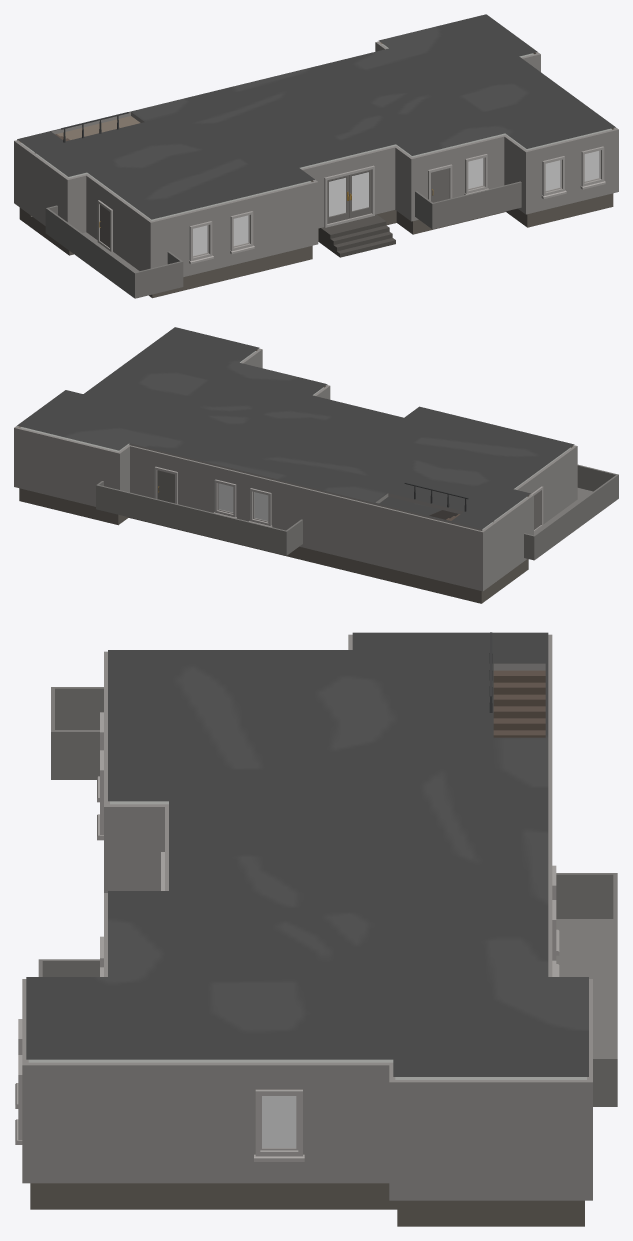
Rendered from SM_Bldg_City_Commercial_08_Base.fbx.
3 renders of one model, top to bottom at view 1: azimuth 30°, elevation 25°; view 2: azimuth 150°, elevation 25°; view 3: azimuth 270°, elevation 25°, orthographic. The views are drawn at different scales.
Parts seen in each view (by area): view 1: SM_Bldg_City_Commercial_08_Base, SM_Bldg_City_Commercial_08_Base_Glass; view 2: SM_Bldg_City_Commercial_08_Base, SM_Bldg_City_Commercial_08_Base_Glass; view 3: SM_Bldg_City_Commercial_08_Base, SM_Bldg_City_Commercial_08_Base_Glass.
Part boxes in pixels (x1,y1,x2,y2): SM_Bldg_City_Commercial_08_Base: [14, 14, 618, 298]; SM_Bldg_City_Commercial_08_Base_Glass: [193, 150, 599, 255]; SM_Bldg_City_Commercial_08_Base: [14, 327, 618, 603]; SM_Bldg_City_Commercial_08_Base_Glass: [219, 483, 268, 520]; SM_Bldg_City_Commercial_08_Base: [15, 632, 617, 1226]; SM_Bldg_City_Commercial_08_Base_Glass: [262, 1096, 296, 1147].
Bounding box in the file's own units: 2660 × 485 × 1477.
